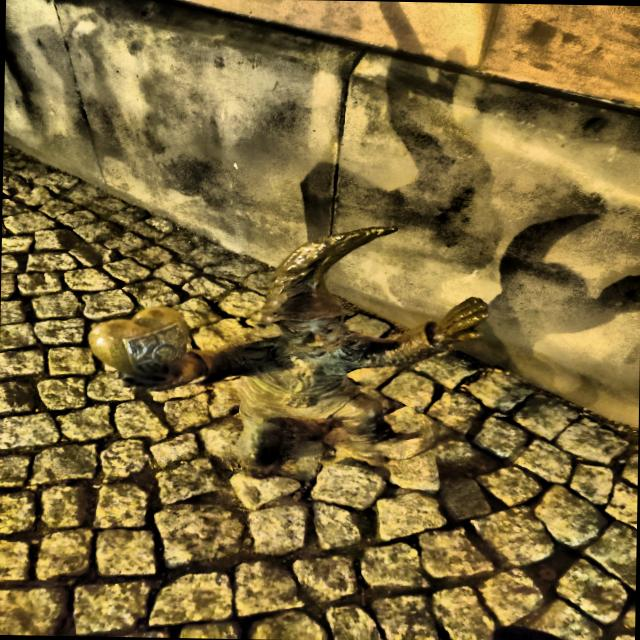WrocLovek: (77, 219, 508, 485)
